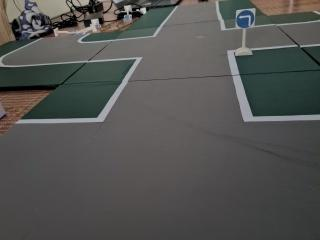left: (230, 5, 260, 34)
